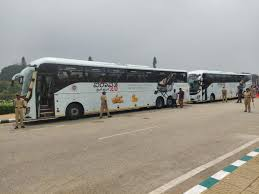bus: (15, 56, 188, 122), (186, 71, 258, 103)
